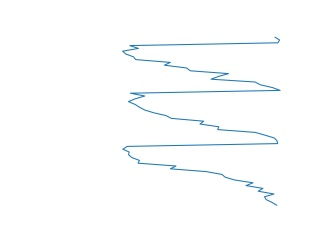distributaryMouthBar: (120, 36, 284, 209)
